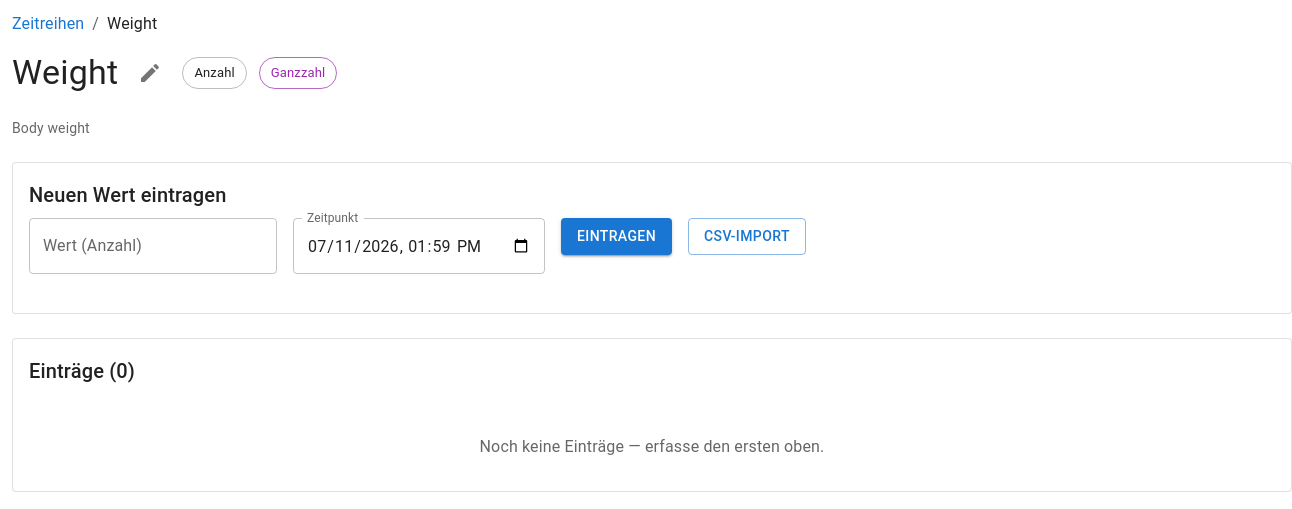
Scenario: TimeSeriesDetailPage › rejects decimals on INTEGER series
Expected: the text "Ganzzahl" is shown, [271,65,325,80]
In the field labelled "Wert": (153, 246) [29,218,277,274], type "78.5"
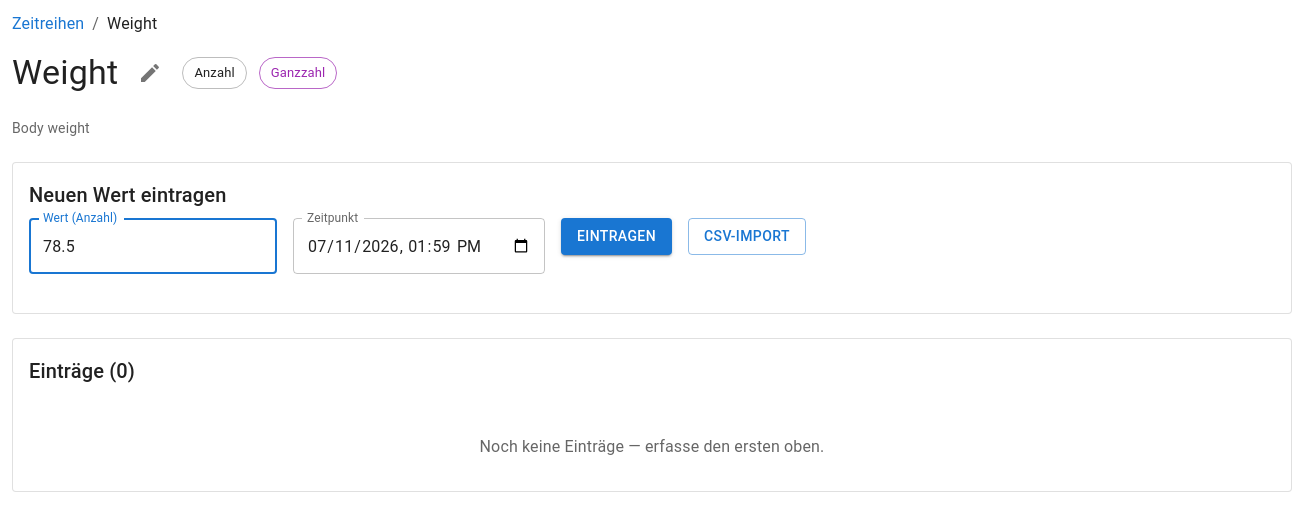
Click the button "Eintragen": click(616, 236) [561,218,672,254]
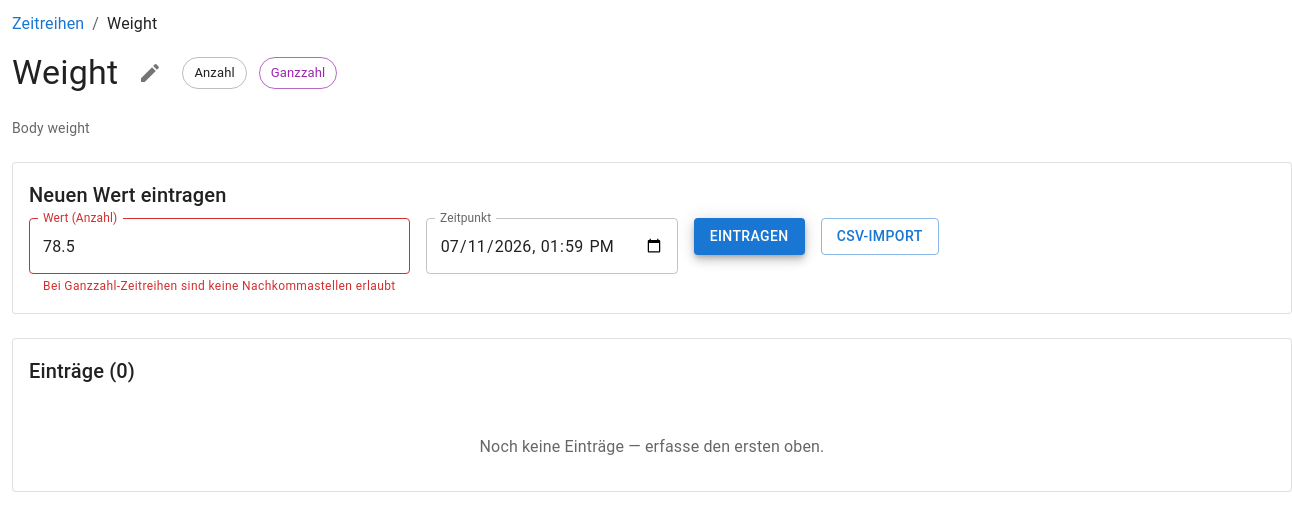
Result: the text "Bei Ganzzahl-Zeitreihen sind keine Nachkommastellen erlaubt" is shown at [43,277,396,297]
